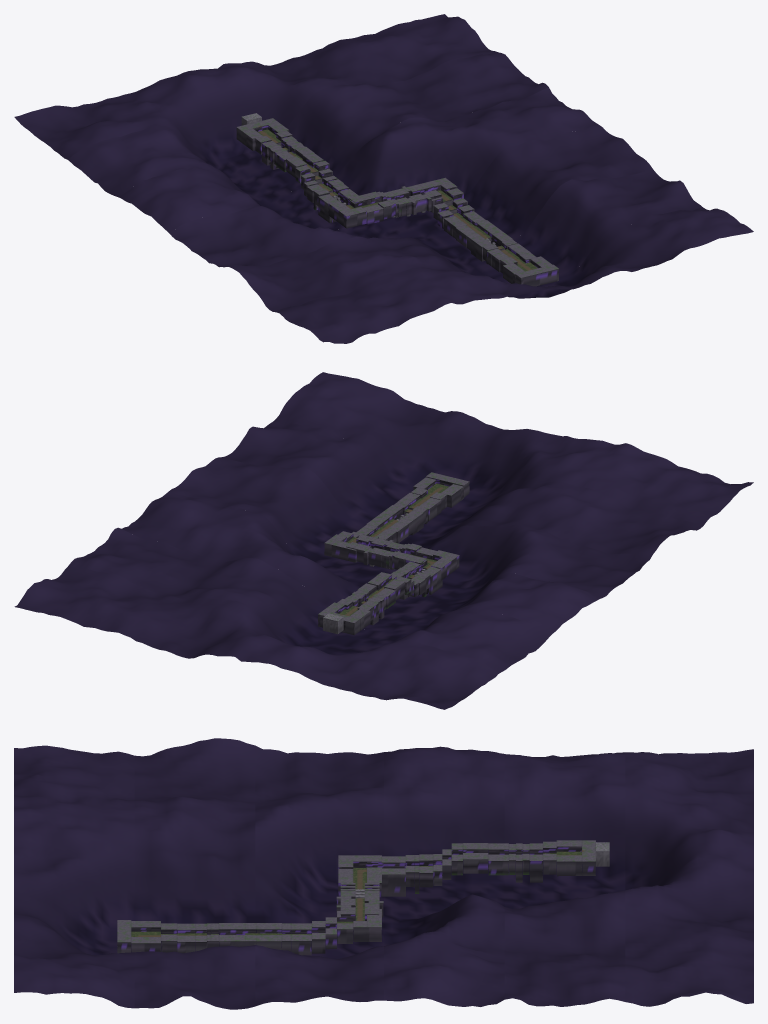
The model's file is grim_graveyard_terrain.glb.
3 renders of one model, top to bottom at view 1: azimuth 30°, elevation 25°; view 2: azimuth 150°, elevation 25°; view 3: azimuth 270°, elevation 25°, orthographic. The views are drawn at different scales.
Visible parts, largest first — view 1: backdrop_5, backdrop_4, backdrop_3, backdrop_2, backdrop_1, backdrop_0, terrain_G, terrain_B, terrain_I, terrain_E, terrain_A, terrain_J (+4 smaller); view 2: backdrop_0, backdrop_5, backdrop_2, backdrop_1, backdrop_4, backdrop_3, terrain_E, terrain_B, terrain_I, terrain_G, terrain_J, terrain_A (+2 smaller); view 3: backdrop_5, backdrop_0, backdrop_1, backdrop_4, backdrop_3, backdrop_2, terrain_I, terrain_G, terrain_B, terrain_E, terrain_J, terrain_C (+4 smaller).
Boxes of the visible parts, x1=… form: backdrop_5: x1=14, y1=14, x2=497, y2=159; backdrop_4: x1=68, y1=52, x2=548, y2=198; backdrop_3: x1=118, y1=87, x2=598, y2=232; backdrop_2: x1=169, y1=125, x2=652, y2=267; backdrop_1: x1=223, y1=169, x2=703, y2=311; backdrop_0: x1=273, y1=208, x2=753, y2=343; terrain_G: x1=307, y1=179, x2=367, y2=228; terrain_B: x1=466, y1=228, x2=536, y2=273; terrain_I: x1=255, y1=130, x2=323, y2=177; terrain_E: x1=377, y1=177, x2=457, y2=217; terrain_A: x1=503, y1=256, x2=558, y2=286; terrain_J: x1=236, y1=113, x2=289, y2=150; backdrop_0: x1=273, y1=372, x2=753, y2=525; backdrop_5: x1=14, y1=566, x2=497, y2=709; backdrop_2: x1=169, y1=457, x2=652, y2=602; backdrop_1: x1=222, y1=422, x2=702, y2=554; backdrop_4: x1=68, y1=527, x2=548, y2=673; backdrop_3: x1=121, y1=491, x2=598, y2=638; terrain_E: x1=324, y1=534, x2=410, y2=569; terrain_B: x1=377, y1=487, x2=447, y2=535; terrain_I: x1=337, y1=575, x2=405, y2=625; terrain_G: x1=391, y1=550, x2=459, y2=597; terrain_J: x1=318, y1=602, x2=370, y2=635; terrain_A: x1=413, y1=472, x2=469, y2=507; backdrop_5: x1=625, y1=749, x2=753, y2=1006; backdrop_0: x1=14, y1=745, x2=134, y2=1008; backdrop_1: x1=134, y1=738, x2=255, y2=1009; backdrop_4: x1=504, y1=752, x2=625, y2=1006; backdrop_3: x1=384, y1=746, x2=504, y2=1006; backdrop_2: x1=255, y1=745, x2=383, y2=1006; terrain_I: x1=463, y1=841, x2=556, y2=882; terrain_G: x1=338, y1=854, x2=433, y2=896; terrain_B: x1=161, y1=923, x2=256, y2=953; terrain_E: x1=336, y1=883, x2=383, y2=941; terrain_J: x1=556, y1=840, x2=609, y2=876; terrain_C: x1=256, y1=923, x2=311, y2=955.
Bounding box in the file's own units: 518 × 63.89 × 644.
